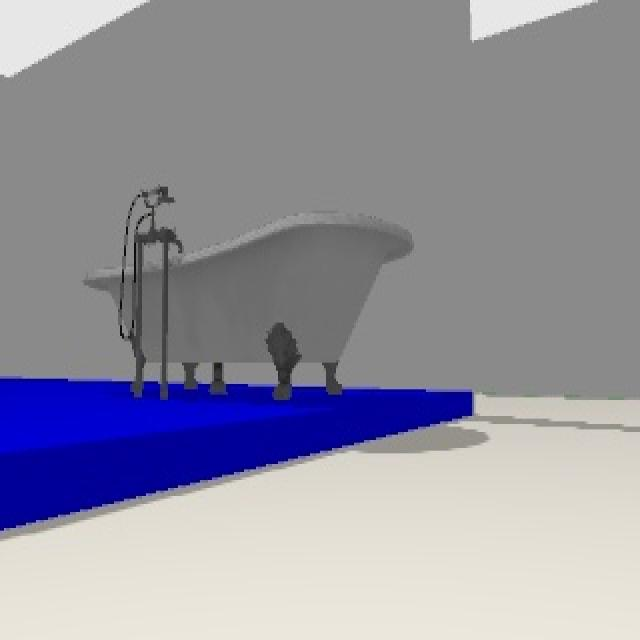bathtub: (82, 188, 412, 400)
